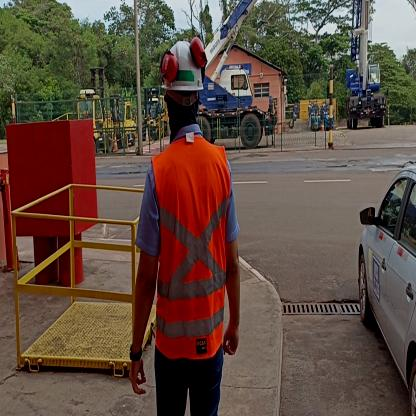Balaclava: (166, 92, 198, 142)
Capacete: (161, 35, 205, 94)
colete: (153, 139, 230, 356)
